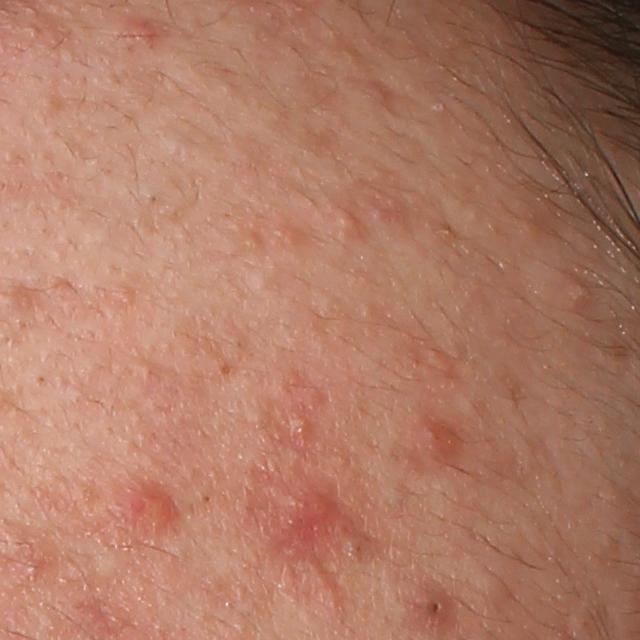comedo: (30, 371, 49, 390)
papule: (260, 476, 344, 553), (113, 484, 186, 531), (400, 582, 462, 634), (424, 417, 469, 466), (562, 266, 593, 322), (123, 7, 156, 55)
